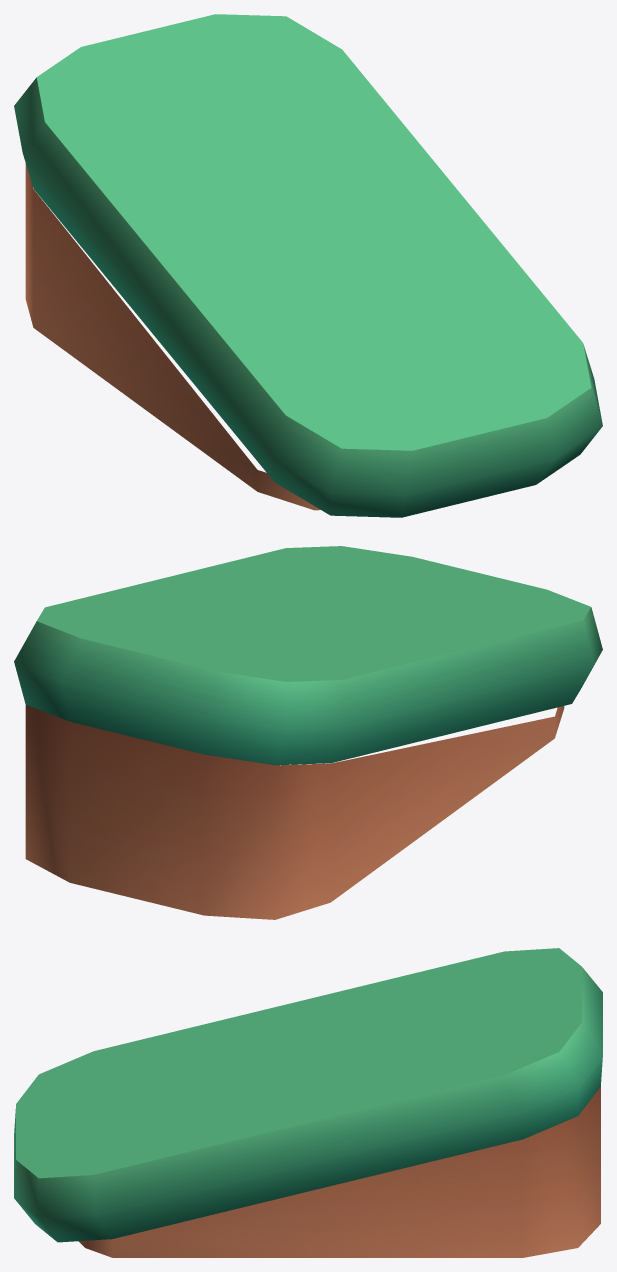
File: kenney-platformer-block-grass-large-slope-narrow.glb
3 views of the same model, one above another, from view 1: azimuth 30°, elevation 25°; view 2: azimuth 150°, elevation 25°; view 3: azimuth 270°, elevation 25° (orthographic). The views are drawn at different scales.
Visible parts, largest first — view 1: block-grass-large-slope-narrow; view 2: block-grass-large-slope-narrow; view 3: block-grass-large-slope-narrow.
Boxes of the visible parts, x1,y1,x2,y2 form: block-grass-large-slope-narrow: [14, 14, 602, 517]; block-grass-large-slope-narrow: [14, 546, 602, 919]; block-grass-large-slope-narrow: [14, 948, 602, 1257].
Bounding box in the file's own units: 1.08 × 0.7592 × 2.01.
1 material, 1 textured.
